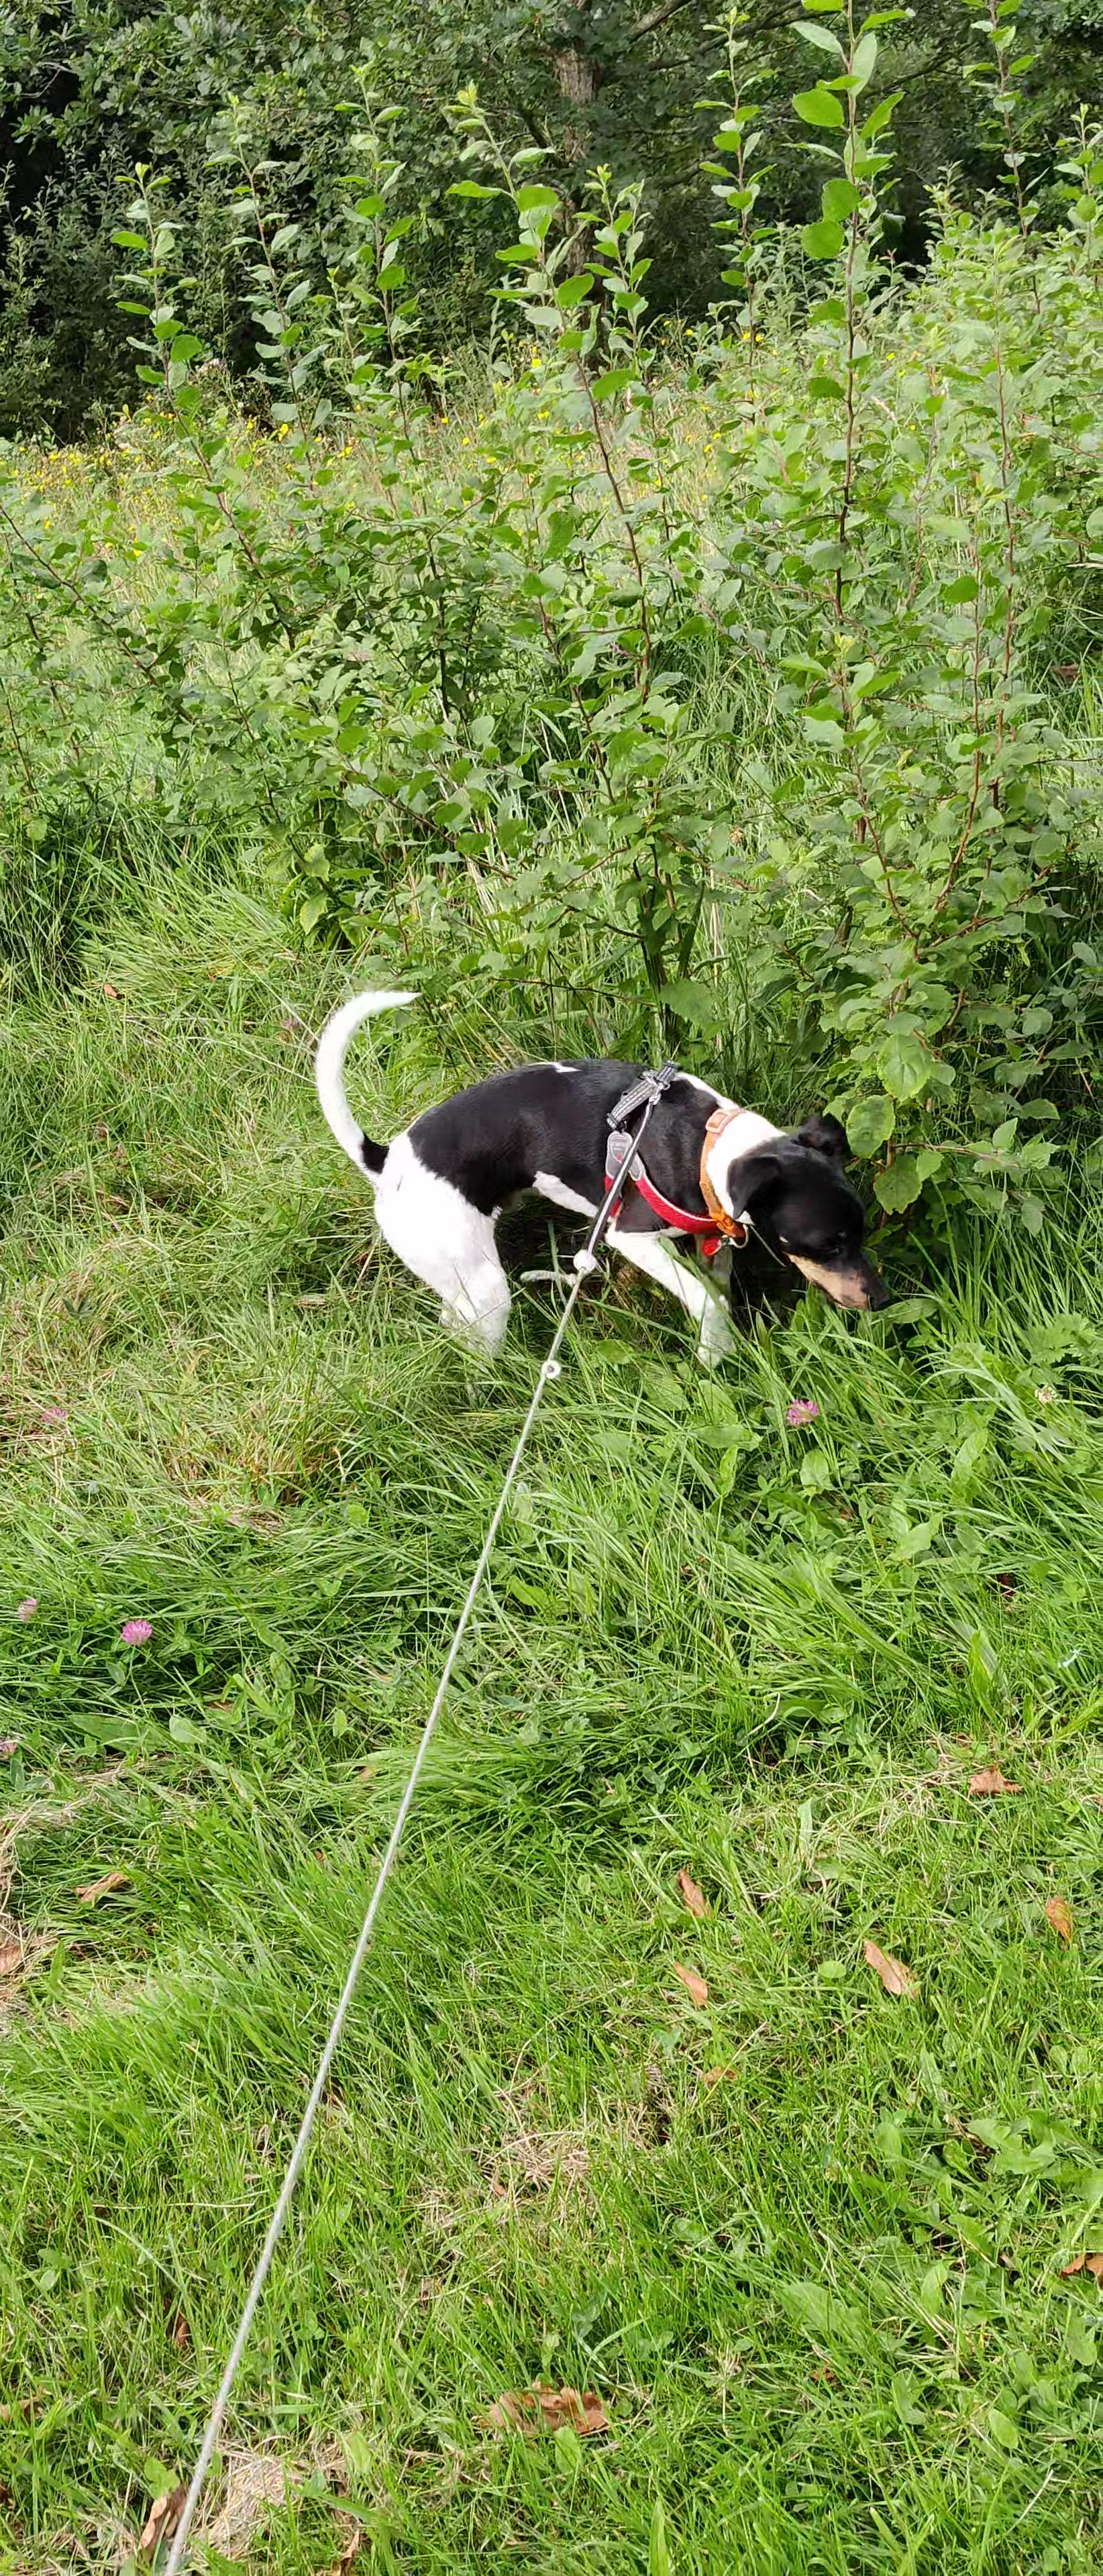Dog: (298, 977, 912, 1398)
